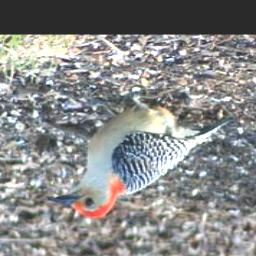Woodpecker: (49, 84, 226, 218)
